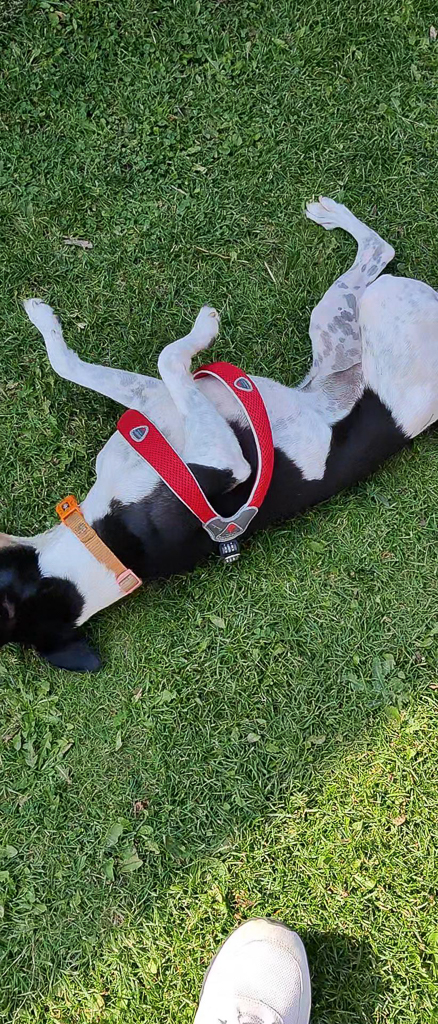Dog: (0, 173, 438, 702)
Humanoid: (161, 912, 359, 1024)
